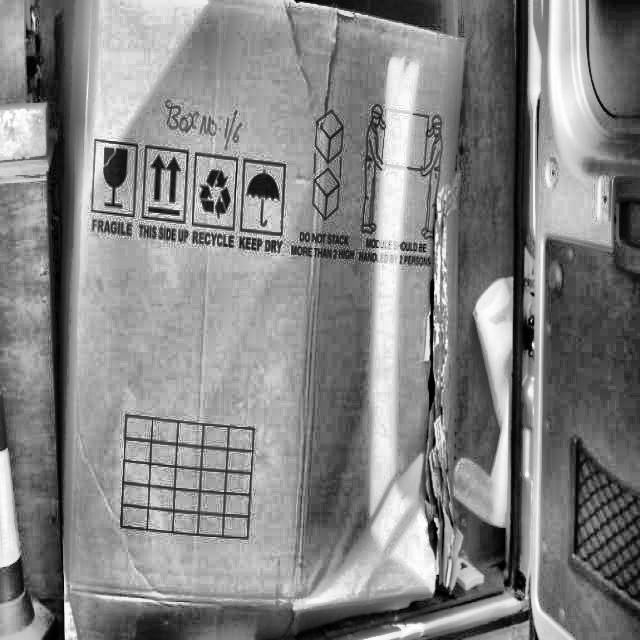box: (44, 0, 486, 636)
hole: (424, 262, 443, 560)
